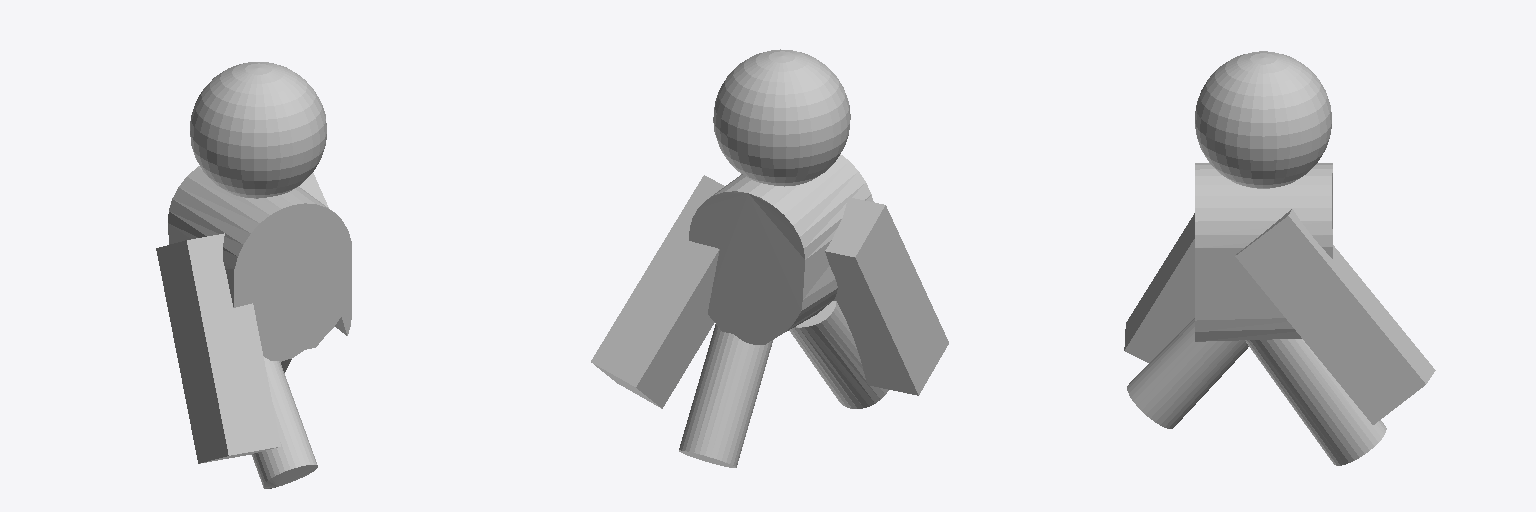
Rendered from Figurine62.obj.
3 views of the same model, side by side, from view 1: azimuth 30°, elevation 25°; view 2: azimuth 150°, elevation 25°; view 3: azimuth 270°, elevation 25° (orthographic).
Visible parts, largest first — view 1: Cylinder; view 2: Cylinder; view 3: Cylinder.
Boxes of the visible parts, x1=… form: Cylinder: x1=156, y1=62, x2=351, y2=488; Cylinder: x1=591, y1=49, x2=948, y2=467; Cylinder: x1=1124, y1=51, x2=1435, y2=465.
Bounding box in the file's own units: 3.49 × 6.26 × 4.52.